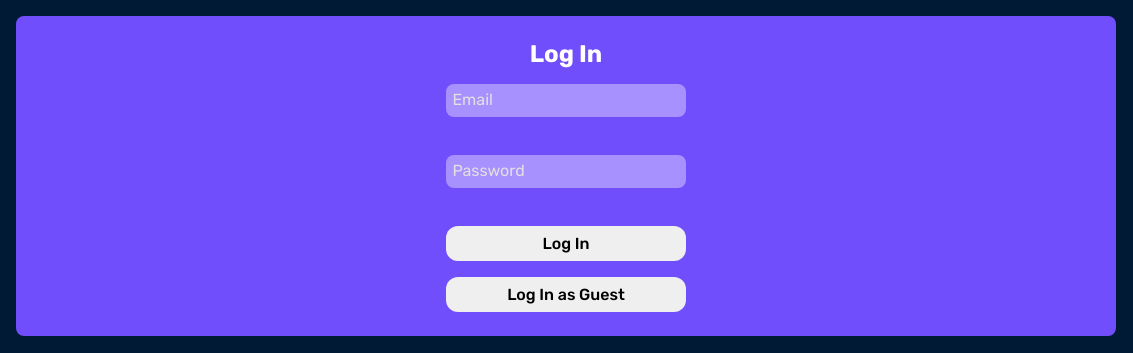
Test: Login component › Displays invalid input errors when user shifts focus away from them
The image size is (1133, 353).
Click the field labelled "Email". click: (566, 101)
box: [446,84,686,117]
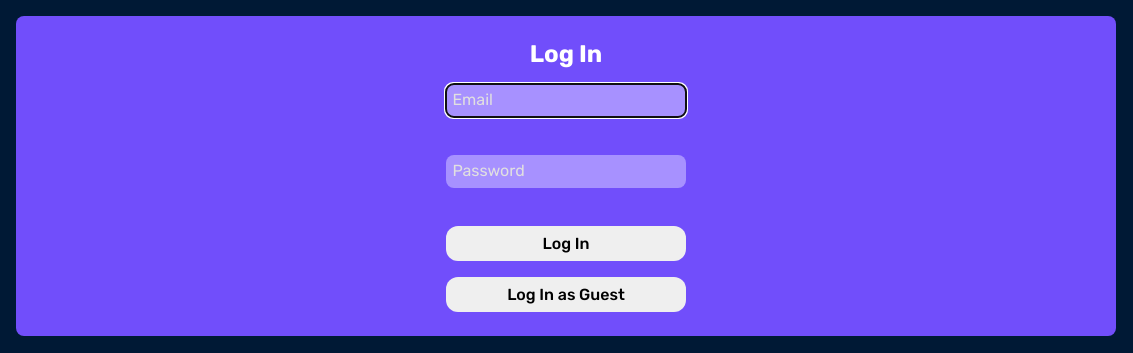
Click the password field labelled "Password". click: (566, 172)
box: [446,155,686,188]
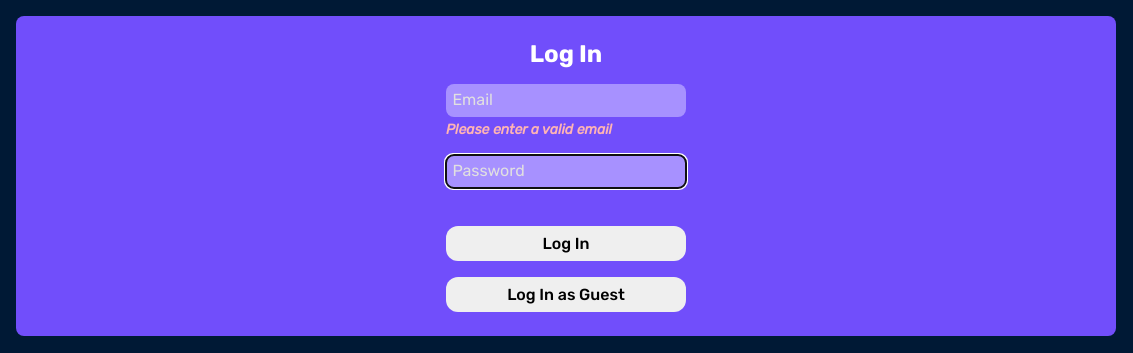
Press Tab
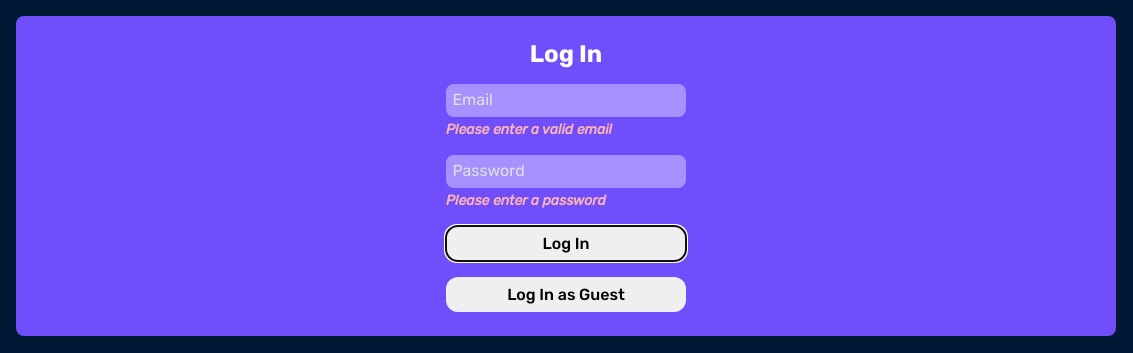
Now the text "Please enter a valid email" is shown, box [446,121,612,138]
Now the text "Please enter a password" is shown, box [446,192,606,209]
